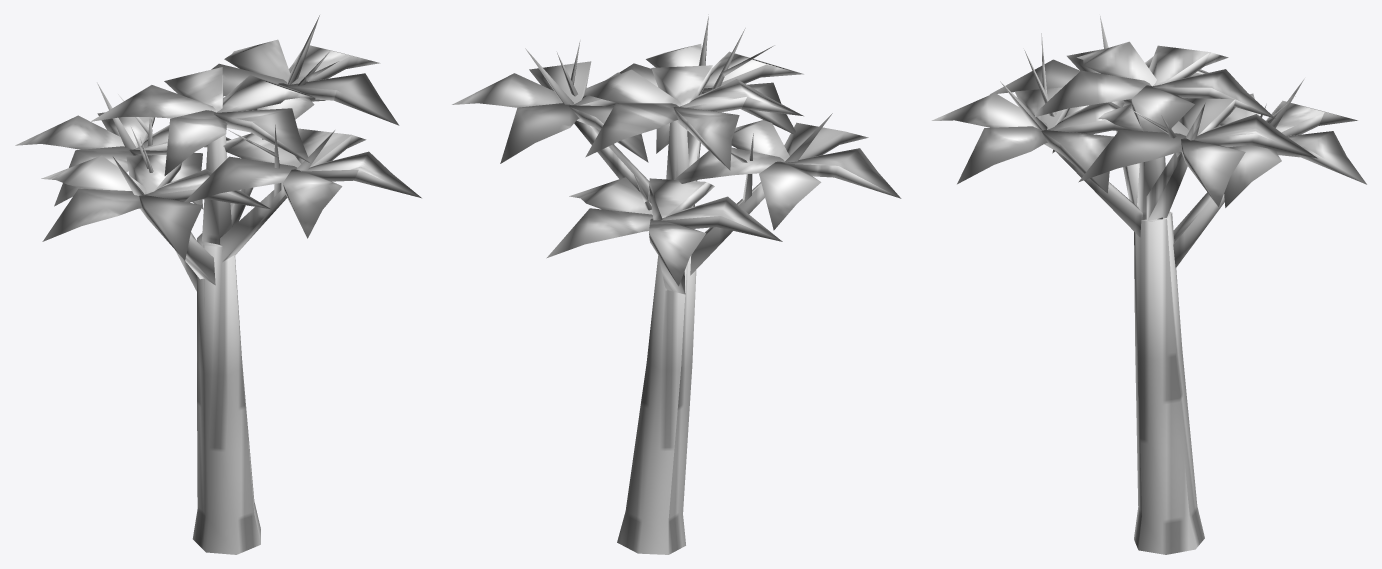
Rendered from tree_cecropia_2.obj.
The picture shows the model from 3 angles, left to right: view 1: azimuth 30°, elevation 25°; view 2: azimuth 150°, elevation 25°; view 3: azimuth 270°, elevation 25°; orthographic projection. The views are drawn at different scales.
Parts seen in each view (by area): view 1: source_component_000, source_component_029, source_component_033, source_component_022, source_component_039, source_component_021, source_component_020, source_component_035, source_component_030, source_component_034, source_component_024, source_component_018 (+16 smaller); view 2: source_component_000, source_component_019, source_component_023, source_component_041, source_component_029, source_component_025, source_component_028, source_component_020, source_component_040, source_component_021, source_component_024, source_component_018 (+14 smaller); view 3: source_component_000, source_component_039, source_component_022, source_component_035, source_component_040, source_component_041, source_component_019, source_component_036, source_component_034, source_component_018, source_component_023, source_component_020 (+12 smaller).
Part boxes in pixels (x1=…): source_component_000: x1=192, y1=233, x2=260, y2=554; source_component_029: x1=42, y1=188, x2=141, y2=241; source_component_033: x1=184, y1=156, x2=296, y2=202; source_component_022: x1=214, y1=108, x2=310, y2=163; source_component_039: x1=287, y1=73, x2=399, y2=125; source_component_021: x1=164, y1=110, x2=227, y2=175; source_component_020: x1=90, y1=85, x2=215, y2=121; source_component_035: x1=299, y1=151, x2=421, y2=198; source_component_030: x1=139, y1=194, x2=202, y2=260; source_component_034: x1=283, y1=169, x2=342, y2=238; source_component_024: x1=15, y1=115, x2=124, y2=149; source_component_018: x1=216, y1=75, x2=325, y2=112; source_component_000: x1=617, y1=229, x2=696, y2=554; source_component_019: x1=585, y1=103, x2=678, y2=157; source_component_023: x1=546, y1=208, x2=652, y2=258; source_component_041: x1=500, y1=103, x2=579, y2=163; source_component_029: x1=785, y1=148, x2=901, y2=198; source_component_025: x1=661, y1=196, x2=782, y2=241; source_component_028: x1=759, y1=161, x2=821, y2=230; source_component_020: x1=673, y1=106, x2=739, y2=170; source_component_040: x1=452, y1=73, x2=562, y2=107; source_component_021: x1=680, y1=79, x2=803, y2=116; source_component_024: x1=649, y1=218, x2=705, y2=286; source_component_018: x1=584, y1=69, x2=680, y2=106; source_component_000: x1=1134, y1=211, x2=1204, y2=554; source_component_039: x1=1078, y1=129, x2=1186, y2=182; source_component_022: x1=1034, y1=70, x2=1151, y2=117; source_component_035: x1=957, y1=126, x2=1047, y2=184; source_component_040: x1=1181, y1=138, x2=1245, y2=206; source_component_041: x1=1194, y1=114, x2=1317, y2=158; source_component_019: x1=1152, y1=69, x2=1275, y2=118; source_component_036: x1=1041, y1=130, x2=1113, y2=193; source_component_034: x1=931, y1=93, x2=1047, y2=127; source_component_018: x1=1131, y1=85, x2=1194, y2=132; source_component_023: x1=1274, y1=131, x2=1366, y2=184; source_component_020: x1=1149, y1=45, x2=1228, y2=85.
Size of the model in its own units: 0.8267 by 0.9706 by 0.7743.
